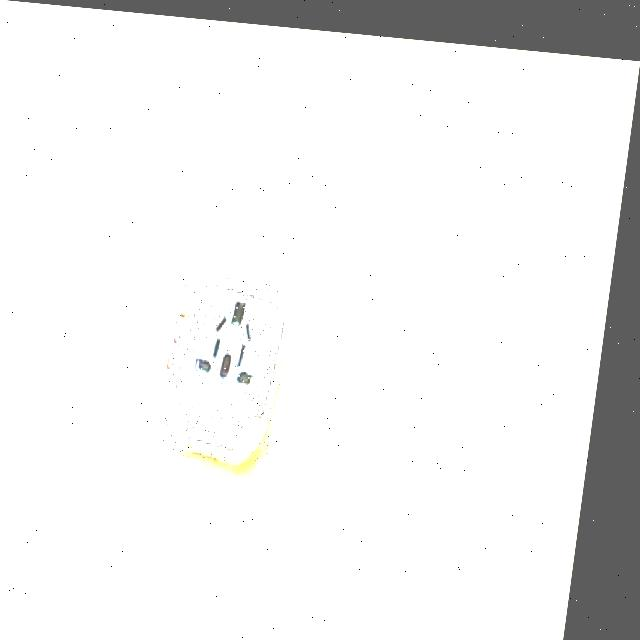adapter: (165, 268, 302, 459)
